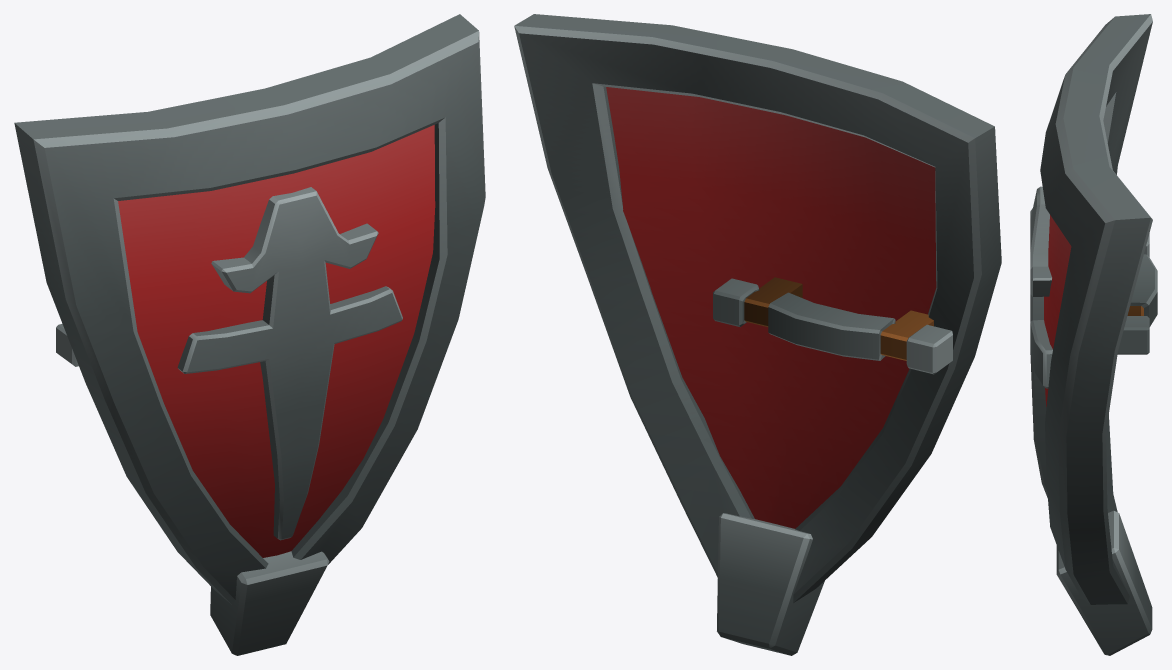
File: Shield-3.fbx
3 renders of one model, left to right at view 1: azimuth 30°, elevation 25°; view 2: azimuth 150°, elevation 25°; view 3: azimuth 270°, elevation 25°, orthographic. The views are drawn at different scales.
Visible parts, largest first — view 1: Shield-3; view 2: Shield-3; view 3: Shield-3.
Part boxes in pixels (left/top/right/bottom): Shield-3: left=14, top=14, right=485, bottom=655; Shield-3: left=514, top=14, right=1001, bottom=655; Shield-3: left=1030, top=14, right=1157, bottom=655.
Bounding box in the file's own units: 105 × 127 × 27.72.
